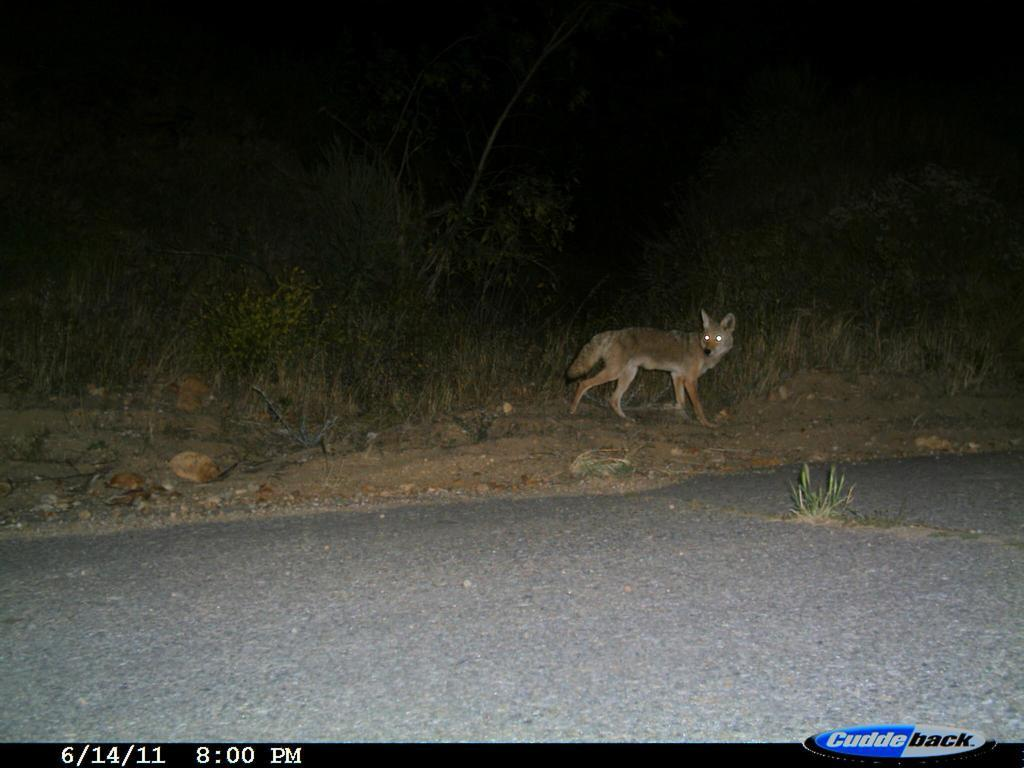coyote: (564, 308, 744, 431)
